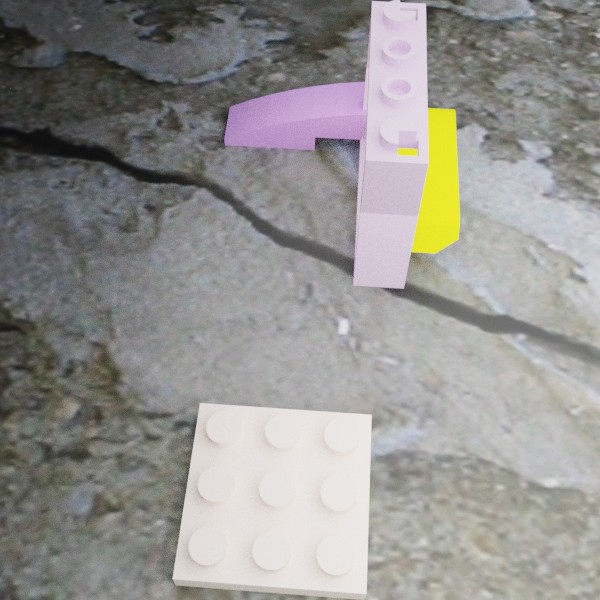lego: (172, 403, 371, 600), (353, 0, 428, 288), (224, 81, 410, 150), (378, 105, 459, 253)
